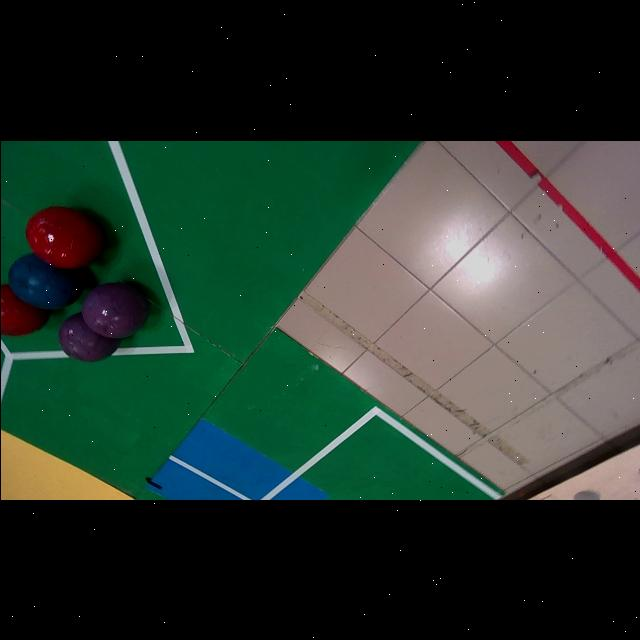B: (7, 254, 84, 309)
P: (81, 282, 148, 338), (57, 313, 119, 362)
R: (25, 207, 104, 269), (0, 284, 50, 336)
